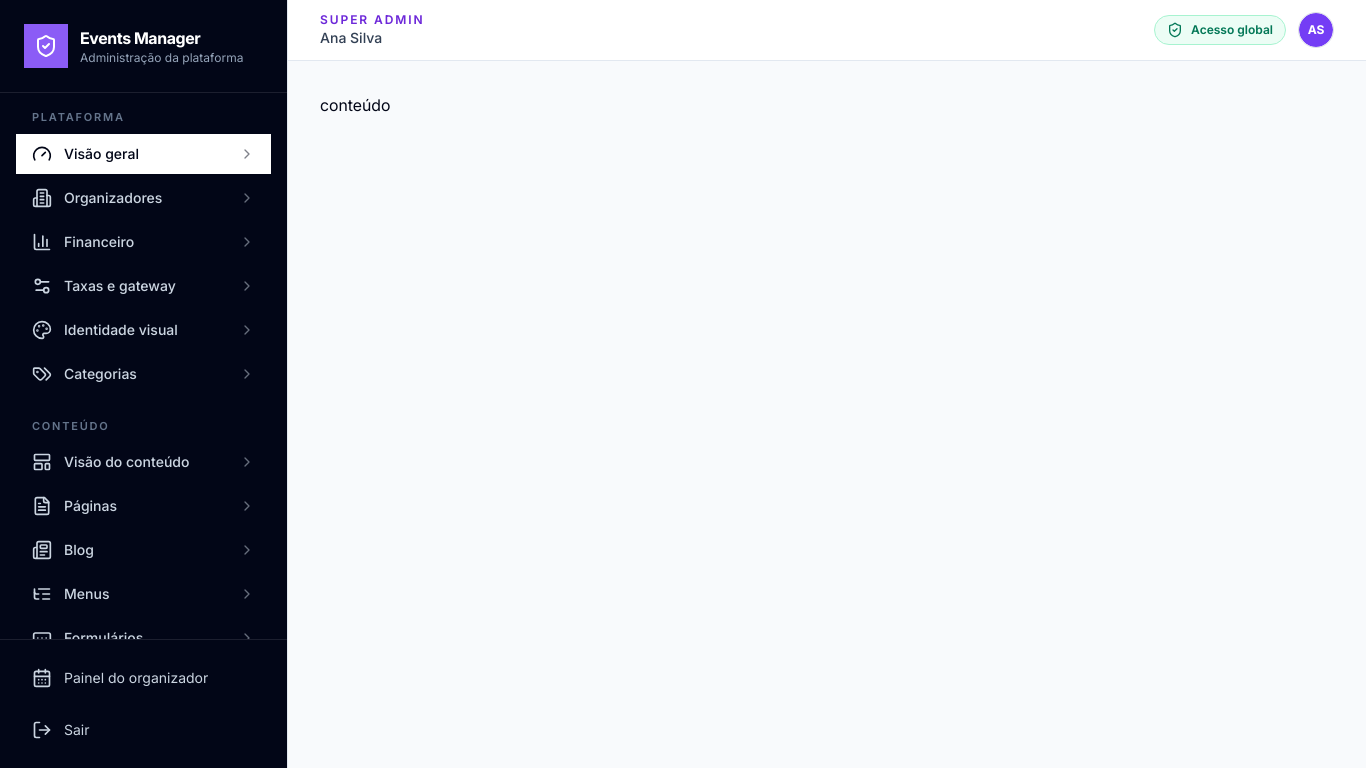
Scenario: SuperAdminShell › also offers the organizer section when the administrator organizes events
The width and height of the screenshot is (1366, 768).
Click the button with aria-label "conta de ana" at [1316, 30], box [1298,12,1334,48]
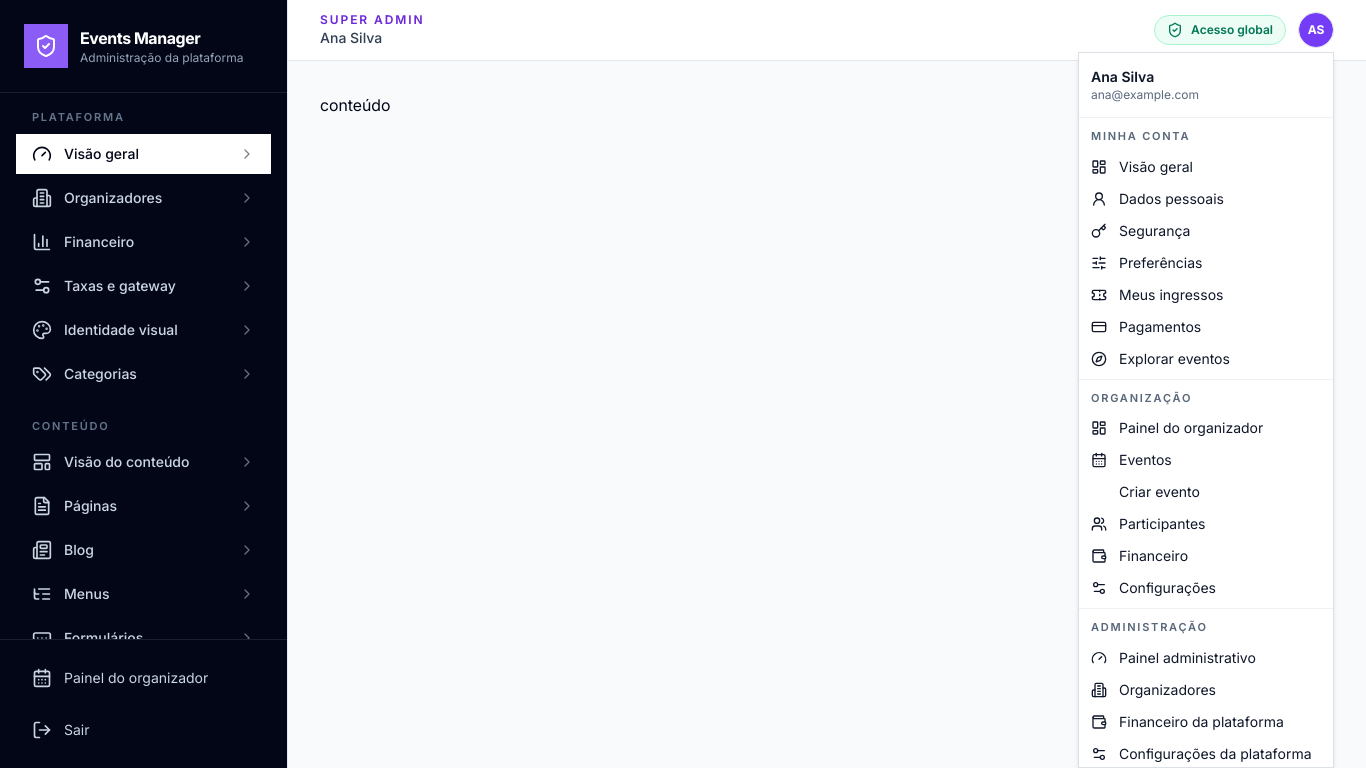
Check: the text "Organização" is shown, box [1091,390,1192,404]
